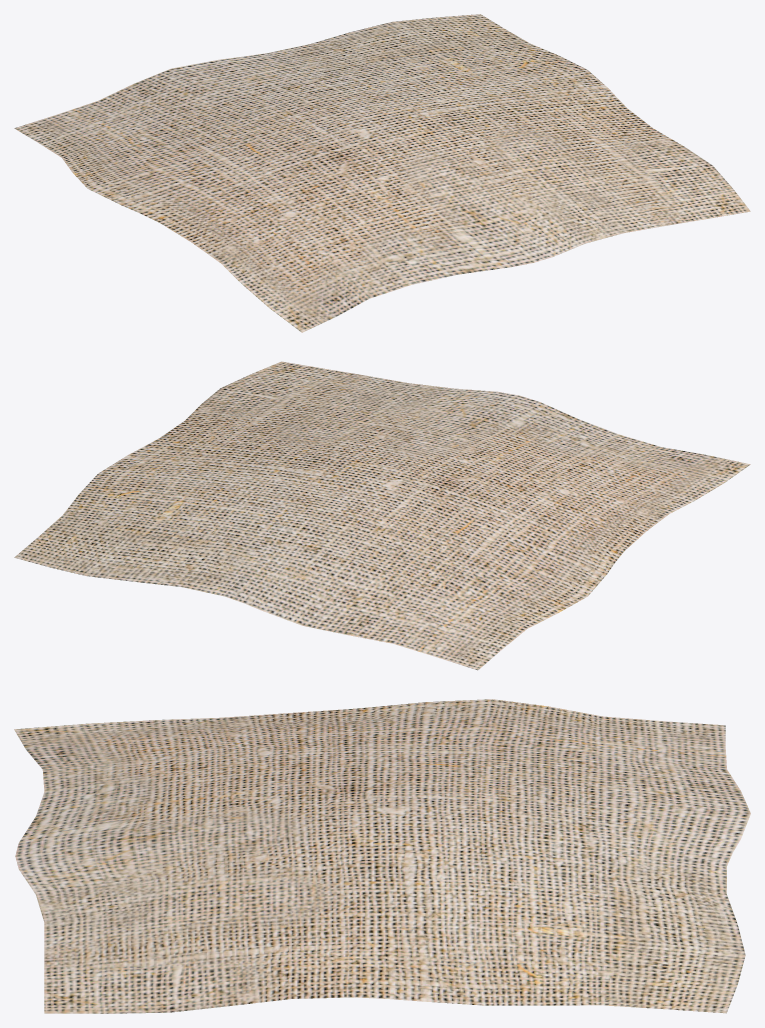
File: Guaze.fbx
3 views of the same model, one above another, from view 1: azimuth 30°, elevation 25°; view 2: azimuth 150°, elevation 25°; view 3: azimuth 270°, elevation 25° (orthographic). The views are drawn at different scales.
Visible parts, largest first — view 1: Guaze; view 2: Guaze; view 3: Guaze.
Boxes of the visible parts, left/top/right/bottom form: Guaze: left=14, top=14, right=750, bottom=332; Guaze: left=14, top=361, right=750, bottom=670; Guaze: left=14, top=699, right=750, bottom=1013.
Bounding box in the file's own units: 213 × 15.9 × 216.
1 material, 1 textured.
